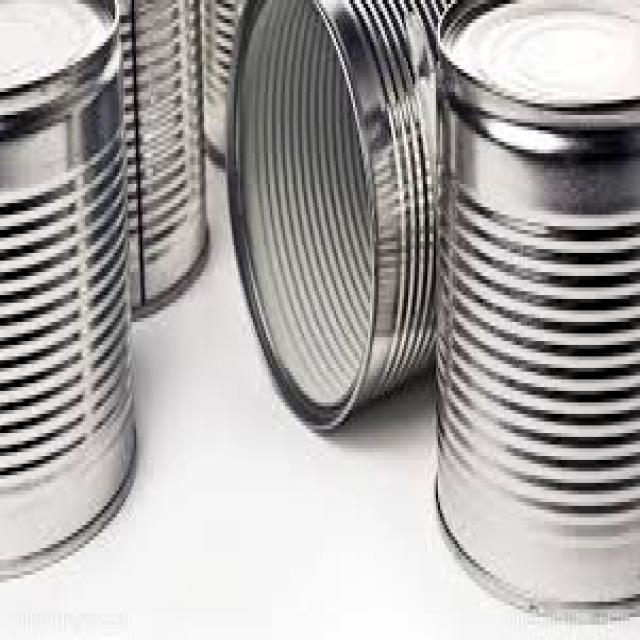metal: (432, 0, 638, 621), (225, 0, 455, 433), (0, 0, 136, 575), (111, 0, 211, 326), (196, 0, 247, 165)
